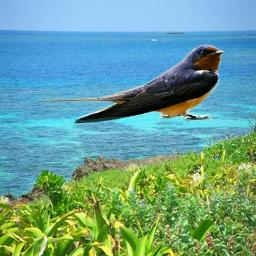Swallow: (37, 43, 225, 124)
